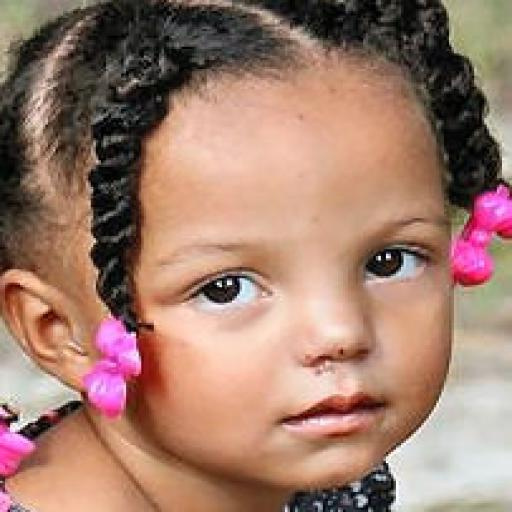Autism: (18, 15, 500, 500)
